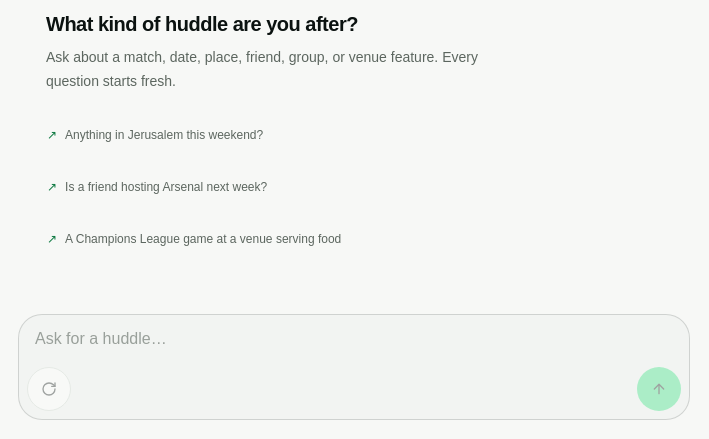
AssistedDiscoveryChat › renders clarification and unsupported answers
Type "question" into the text box named "Ask Huddle what you want to watch" at [354, 339], box [19,315,689,363]
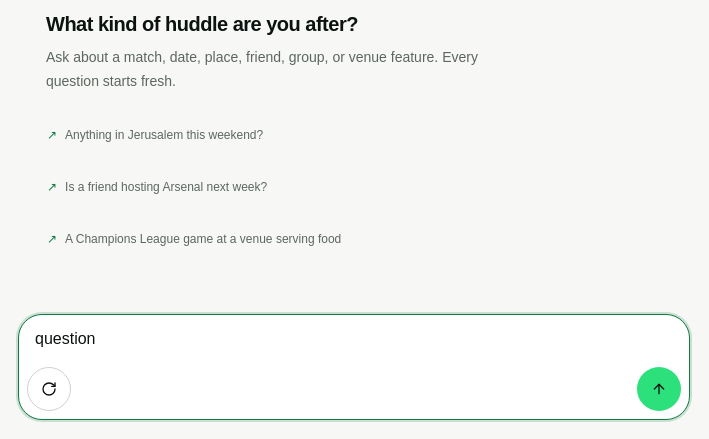
Click the button named "Send question" at [659, 389], box [637,367,681,411]
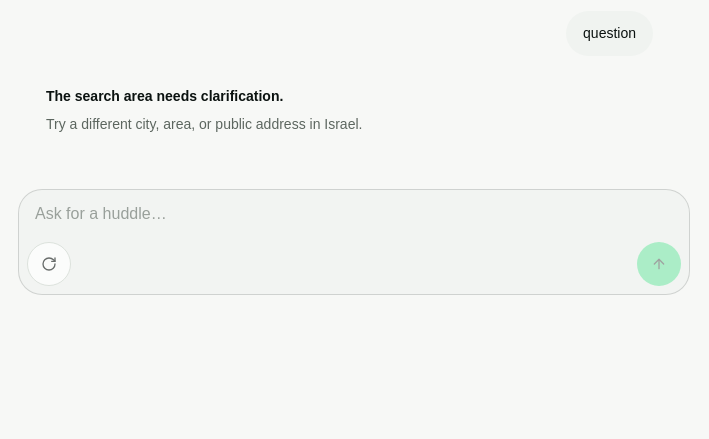
Expected: the text "Try a different city, area, or public address in Israel." is shown, [46,112,362,136]
